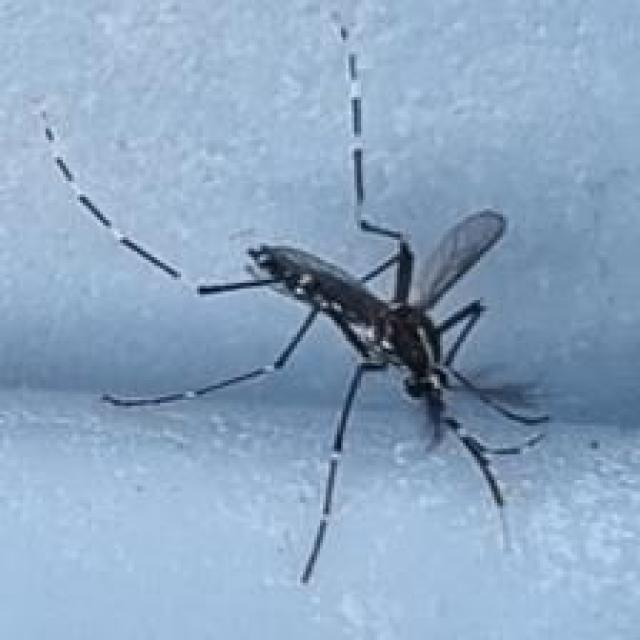Aedes albopictus: (38, 17, 553, 586)
